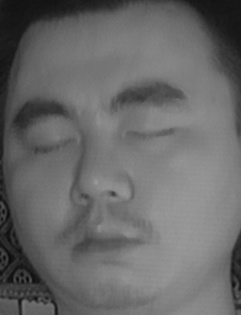blink: (124, 114, 175, 152), (28, 123, 77, 162)
mouth: (61, 210, 154, 268)
